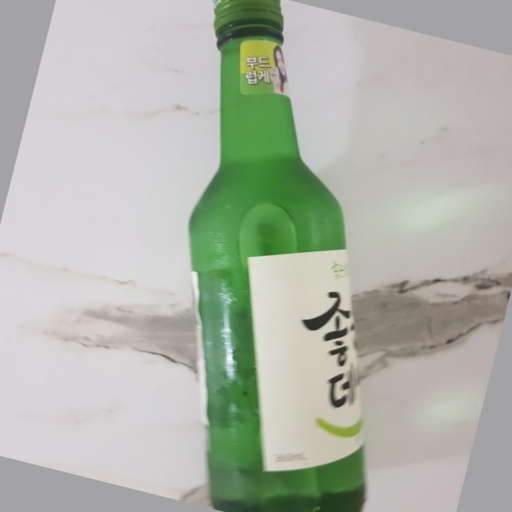Glass_0: (181, 1, 367, 511)
